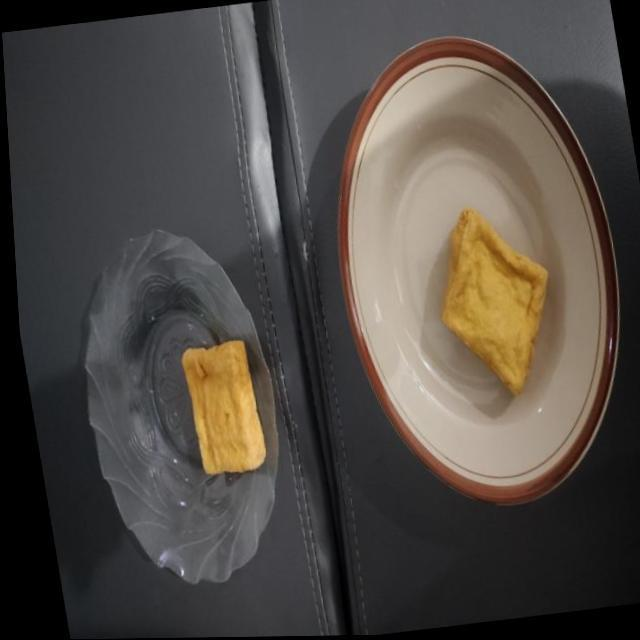tahu_goreng: (442, 208, 547, 394), (182, 340, 266, 473)
